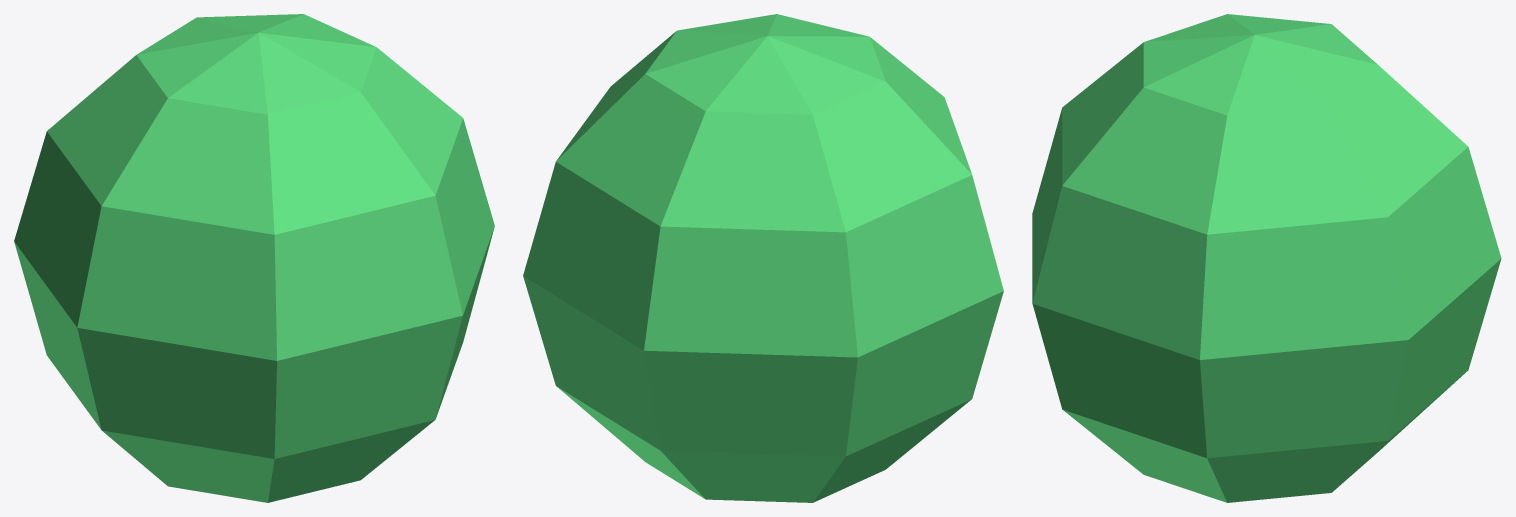
Rendered from melon.fbx.
3 renders of one model, left to right at view 1: azimuth 30°, elevation 25°; view 2: azimuth 150°, elevation 25°; view 3: azimuth 270°, elevation 25°, orthographic.
Visible parts, largest first — view 1: Melon; view 2: Melon; view 3: Melon.
Part boxes in pixels (box(x1,y1,x2,y2)): Melon: box(14, 14, 494, 502); Melon: box(523, 14, 1003, 502); Melon: box(1032, 14, 1501, 502).
Size of the model in its own units: 127 by 131 by 124.
